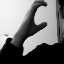c: (22, 1, 48, 32)
